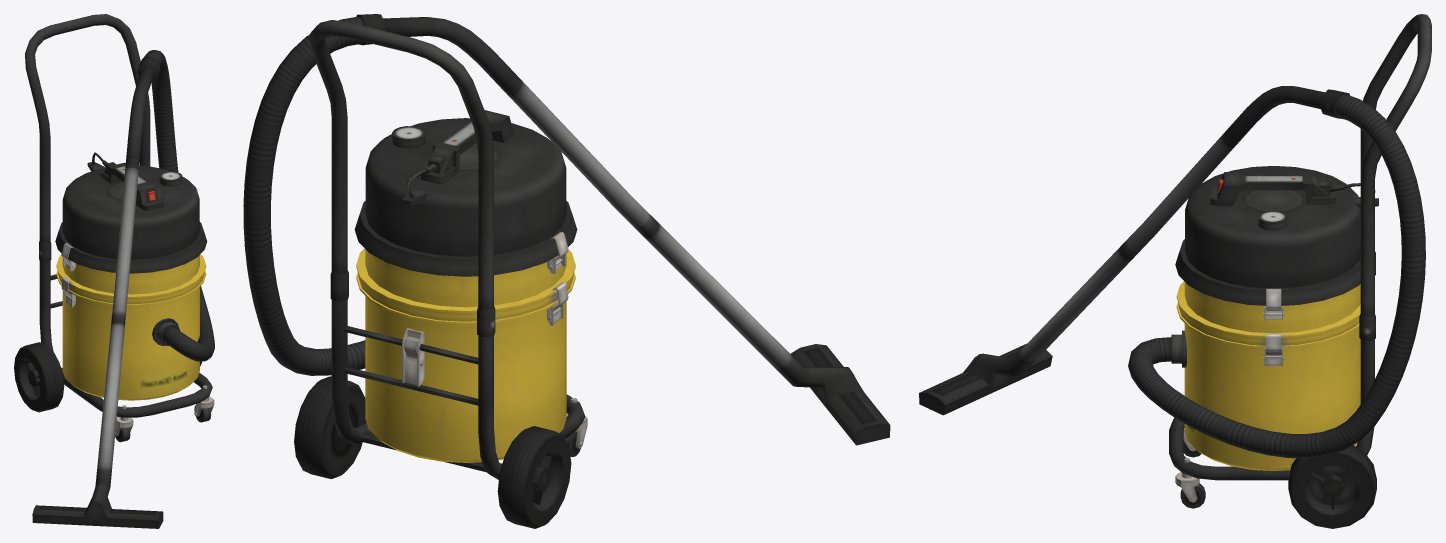
File: vacuum-cleaner-ff52b8.glb
3 views of the same model, side by side, from view 1: azimuth 30°, elevation 25°; view 2: azimuth 150°, elevation 25°; view 3: azimuth 270°, elevation 25° (orthographic). The views are drawn at different scales.
Visible parts, largest first — view 1: PropMesh; view 2: PropMesh; view 3: PropMesh.
Boxes of the visible parts, x1,y1,x2,y2 form: PropMesh: (14,14,214,528); PropMesh: (243,14,890,528); PropMesh: (919,14,1431,528).
Size of the model in its own units: 0.7547 by 0.85 by 0.8832.
1 material, 1 textured.
